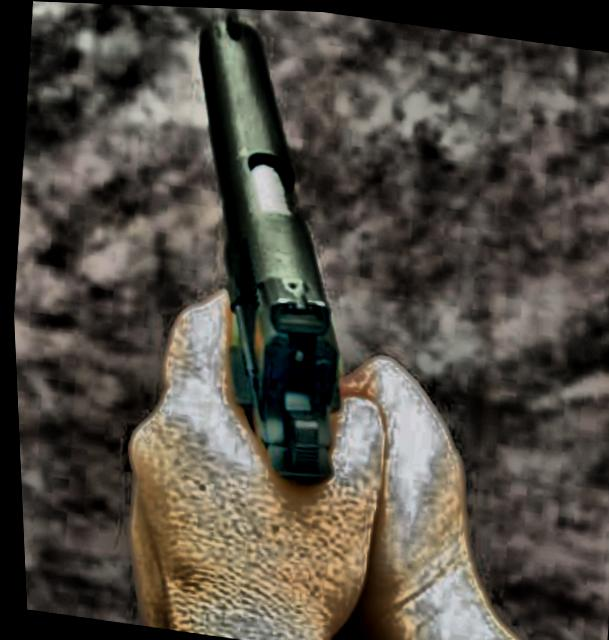pistol: (137, 4, 376, 493)
